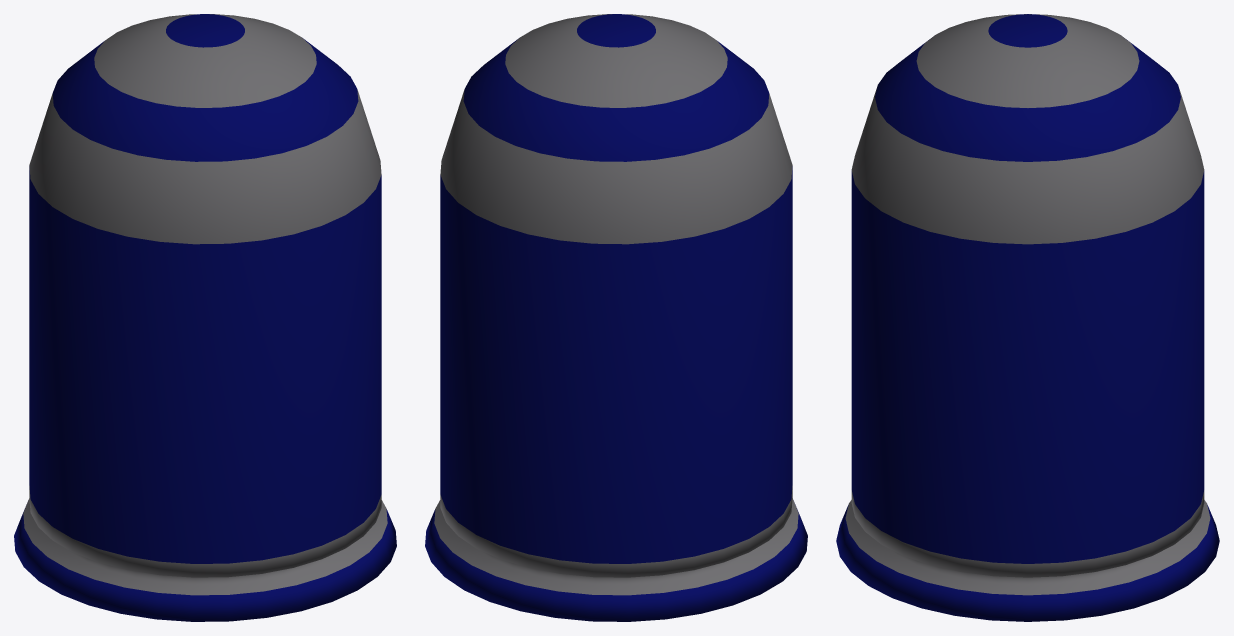
Rendered from Bullet.fbx.
The picture shows the model from 3 angles, left to right: view 1: azimuth 30°, elevation 25°; view 2: azimuth 150°, elevation 25°; view 3: azimuth 270°, elevation 25°; orthographic projection.
Visible parts, largest first — view 1: Cylinder; view 2: Cylinder; view 3: Cylinder.
Boxes of the visible parts, x1,y1,x2,y2 form: Cylinder: [14, 14, 396, 621]; Cylinder: [425, 14, 807, 621]; Cylinder: [836, 14, 1219, 621].
Size of the model in its own units: 218 by 319 by 218.
